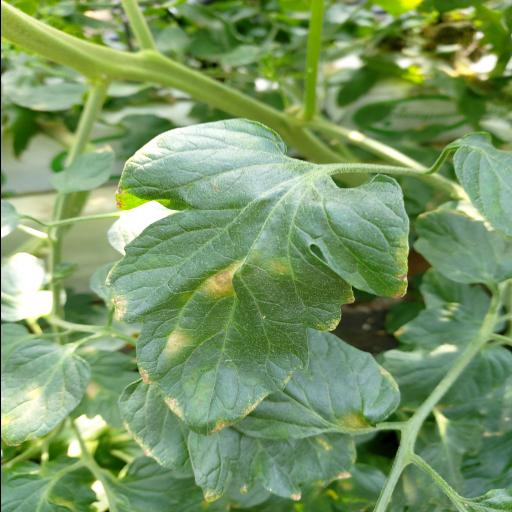Leaf Mold: (102, 116, 410, 430)
